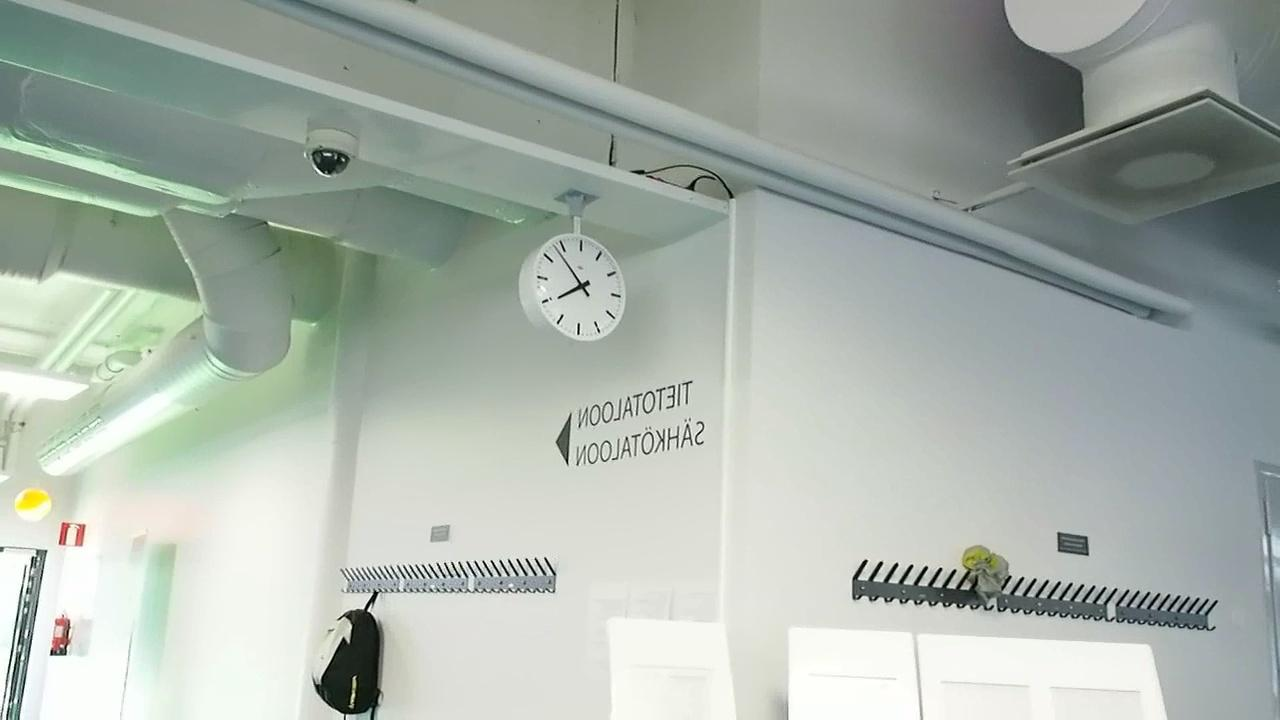clock: (519, 234, 627, 344)
